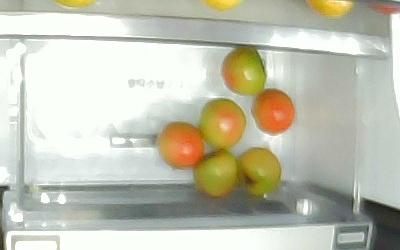tomato: (199, 99, 247, 150), (221, 44, 267, 97), (157, 122, 204, 170), (236, 147, 281, 196), (251, 88, 295, 137), (194, 150, 238, 198)
